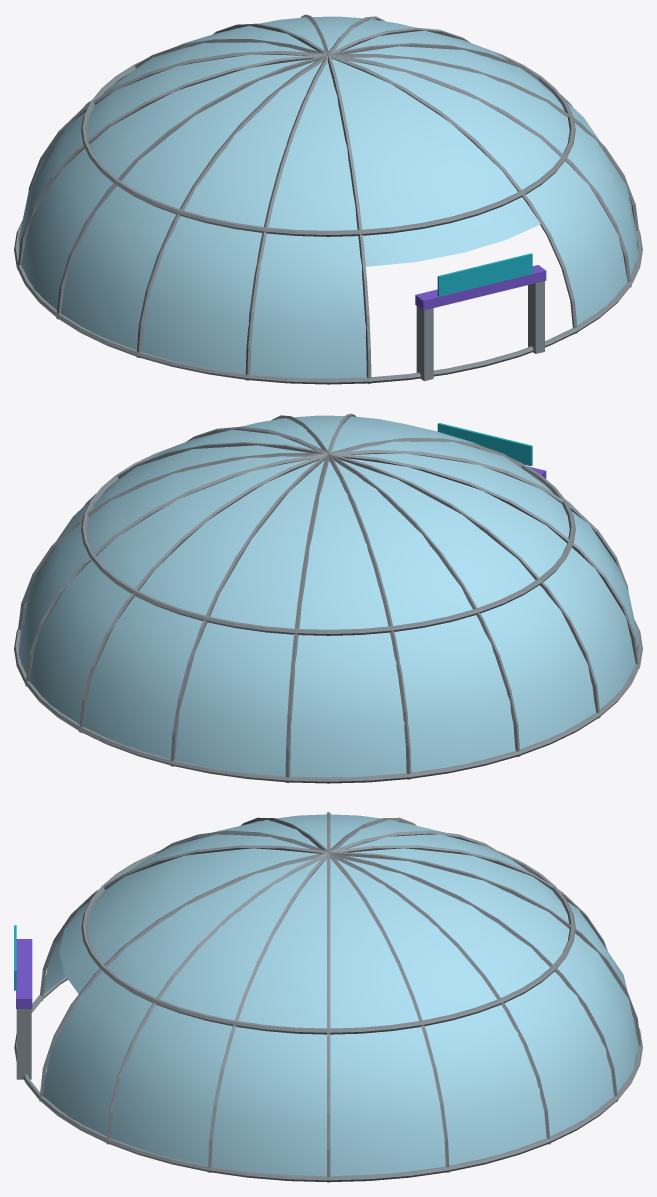
Rendered from dome_shell.glb.
3 views of the same model, one above another, from view 1: azimuth 30°, elevation 25°; view 2: azimuth 150°, elevation 25°; view 3: azimuth 270°, elevation 25° (orthographic).
Visible parts, largest first — view 1: Sphere; view 2: Sphere; view 3: Sphere.
Boxes of the visible parts, box(x1,y1,x2,y2) form: Sphere: box(14, 14, 642, 384); Sphere: box(14, 413, 642, 783); Sphere: box(14, 812, 642, 1182).
Size of the model in its own units: 92.9 by 32.5 by 92.95.
